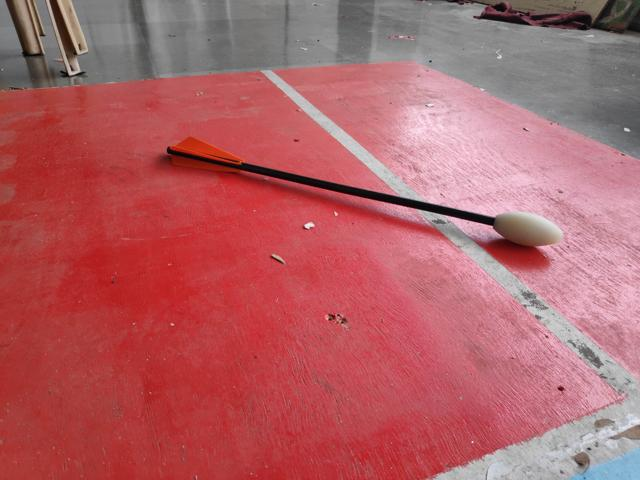Head: (489, 208, 567, 248)
